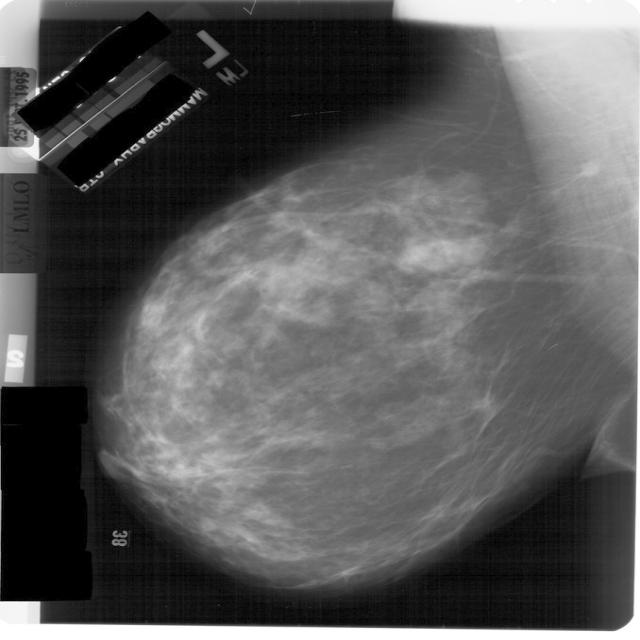tumour: (579, 159, 602, 176)
